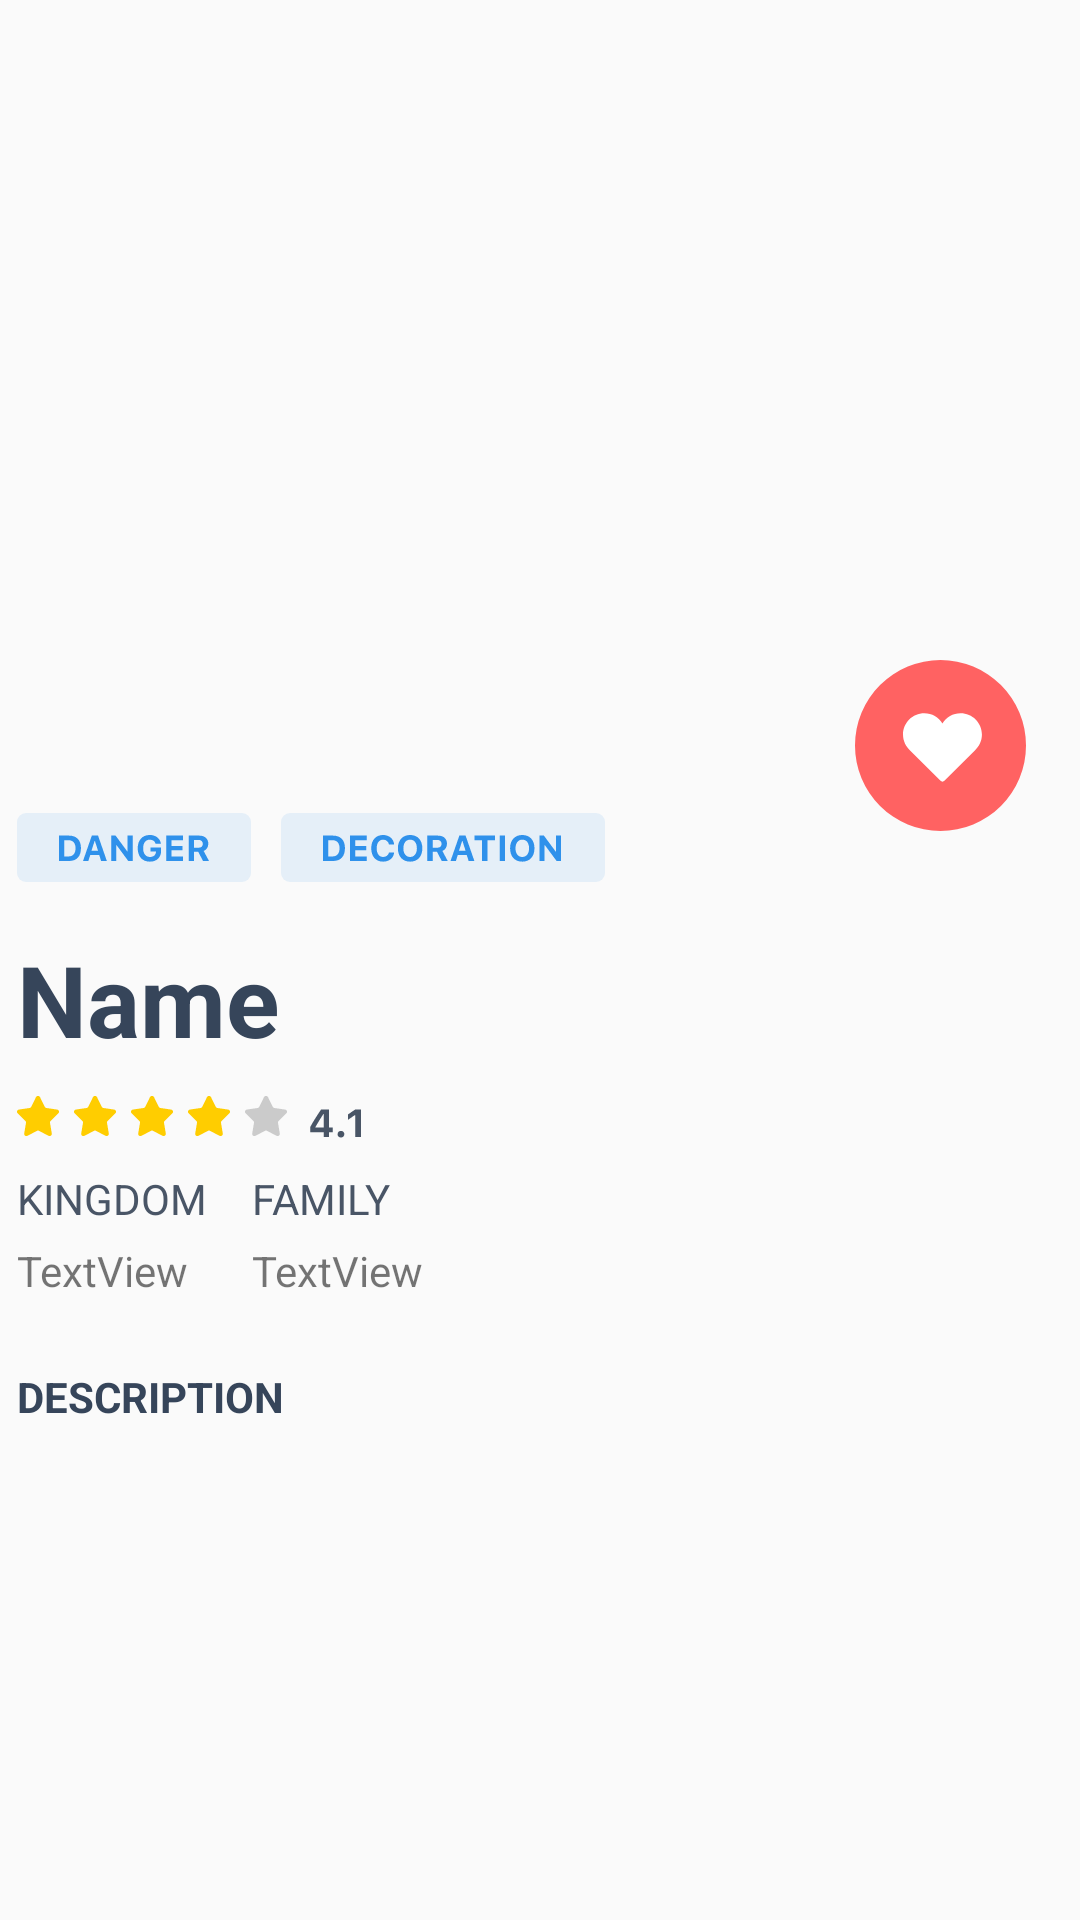

Named icons in this screenshot (1080 x 1920) and their bounding boxes, (x1, y1, x2, y2):
heart: (855, 660, 1026, 831)
